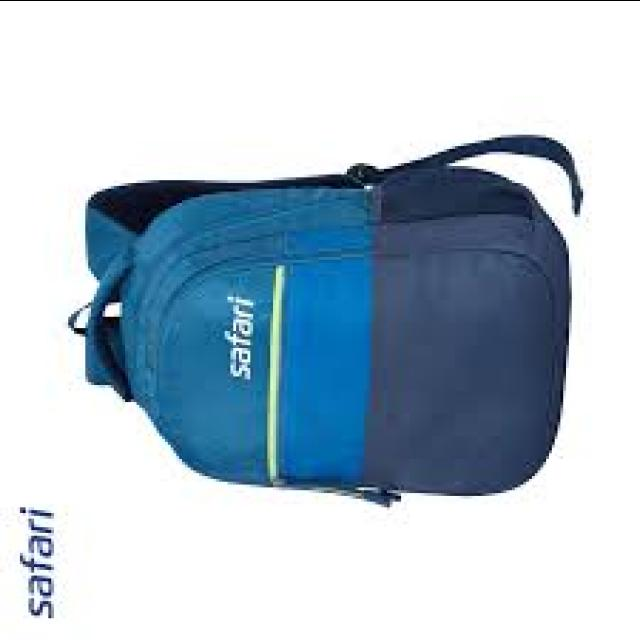backpack: (67, 135, 585, 511)
